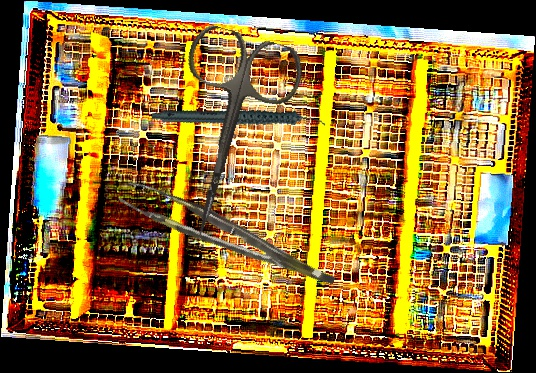Handpiece: (151, 75, 327, 164)
Iris Scissors: (141, 20, 311, 251)
Tissue Forceps: (118, 167, 336, 311)
